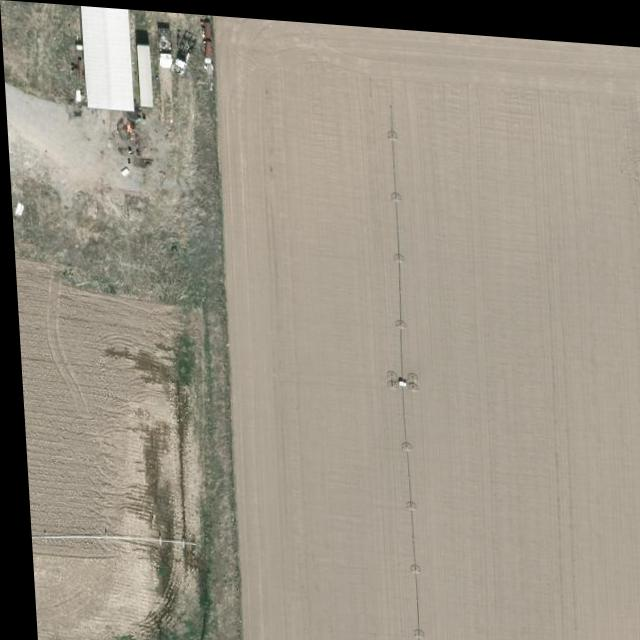vehicle: (170, 26, 200, 77), (155, 19, 174, 68)
